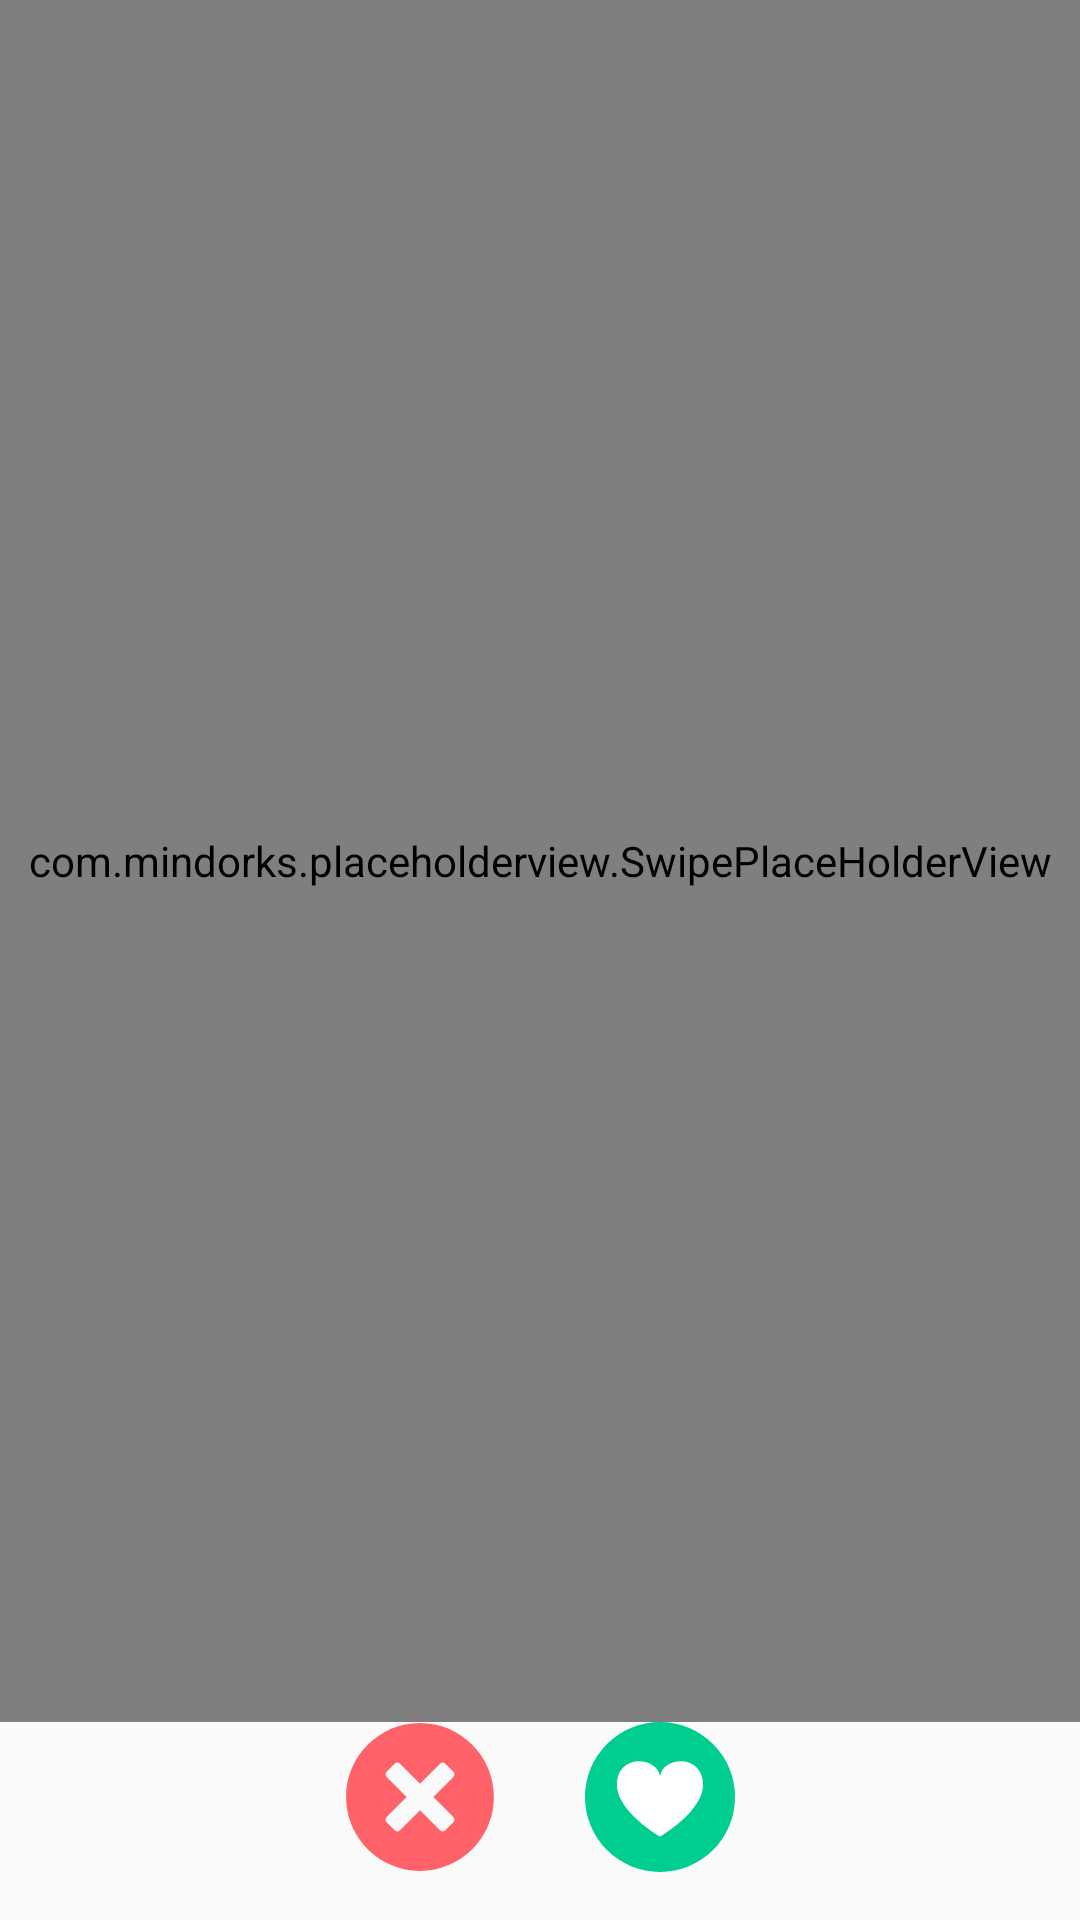

Named icons in this screenshot (1080*1920) and their centers, point (x, y):
cancel: point (420, 1797)
love: point (660, 1797)
